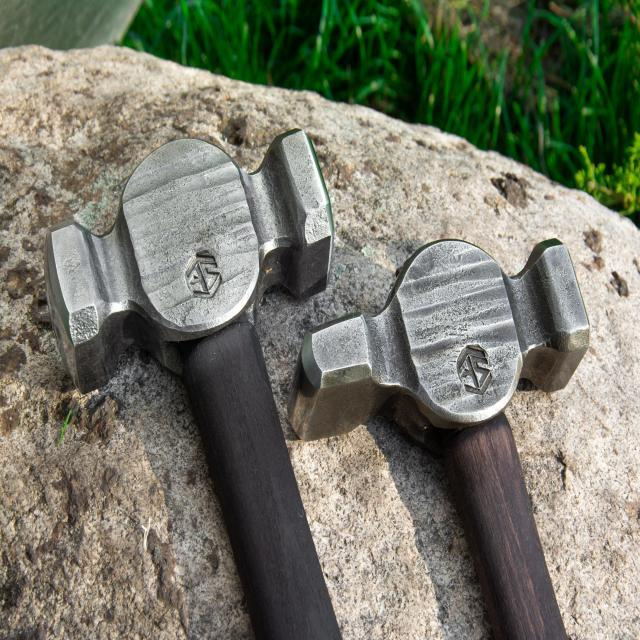hammer: (39, 117, 351, 640), (283, 230, 593, 640)
